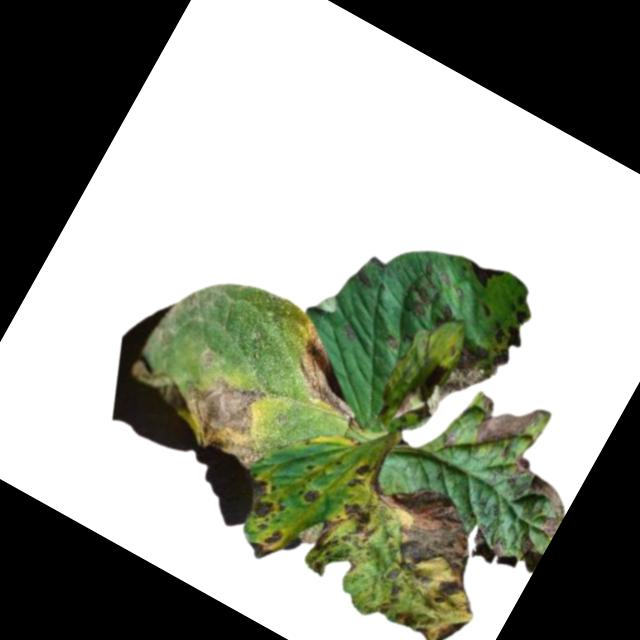Early_blight: (328, 467, 527, 640), (114, 326, 293, 473), (392, 316, 515, 453), (278, 319, 391, 424), (492, 454, 579, 540), (301, 491, 377, 585), (459, 382, 544, 466), (238, 472, 293, 525), (243, 518, 287, 566), (460, 252, 505, 291), (488, 316, 530, 355), (346, 457, 378, 494), (409, 286, 437, 317), (300, 483, 325, 508)
